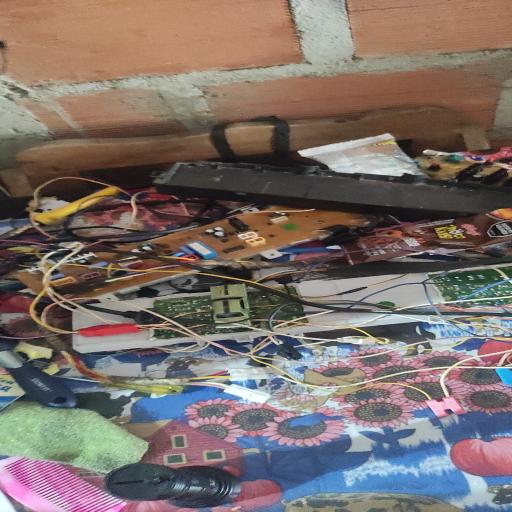Carrito: (210, 284, 250, 323)
